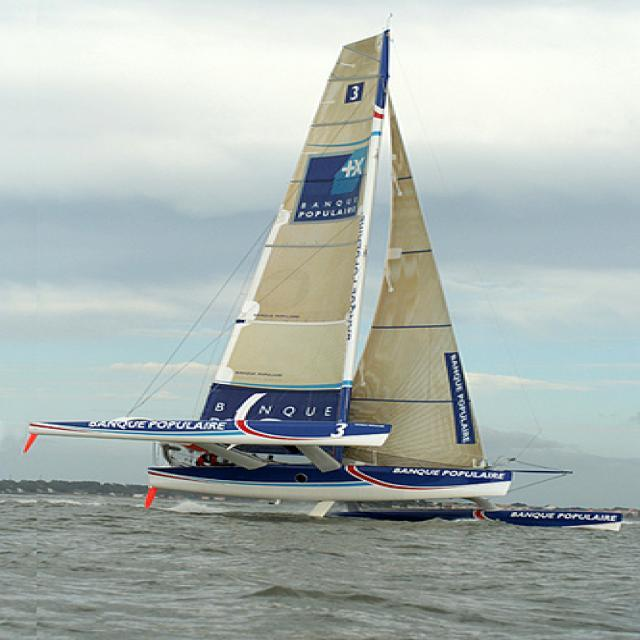Ship: (106, 24, 640, 536)
